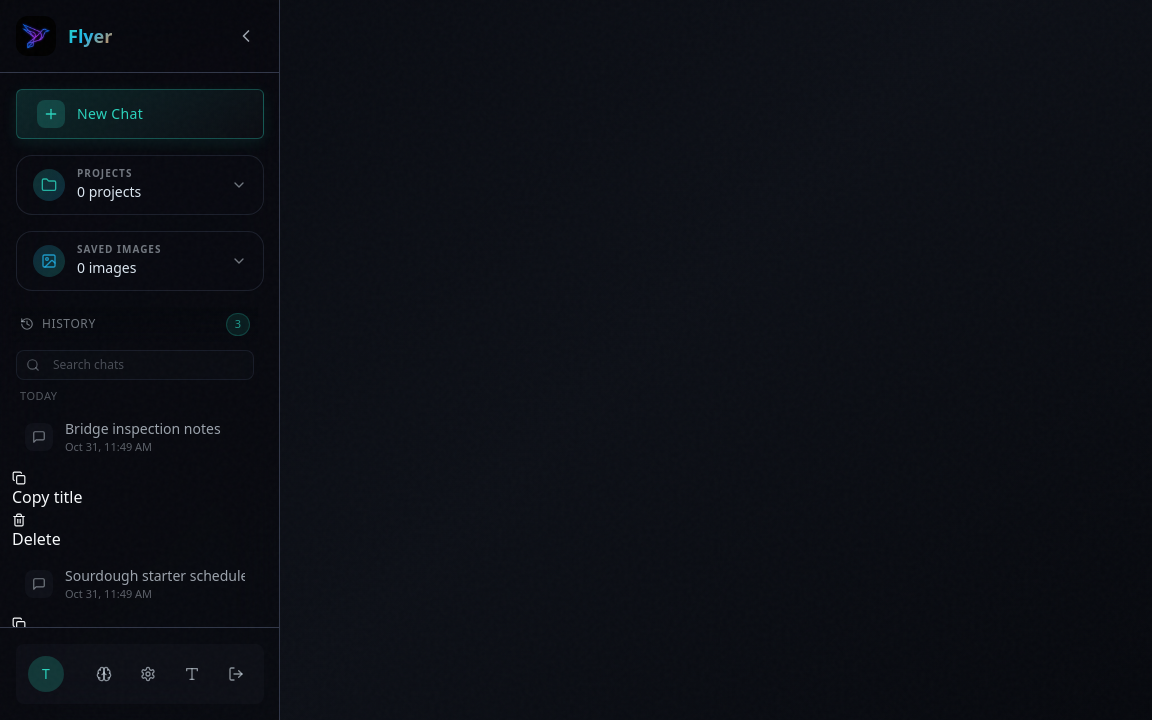
Test: history filtering › says nothing matched instead of claiming the account is empty
Type "zzzz" into the search field named "search conversations".
click(135, 364); type("zzzz")  # box [16,350,254,380]
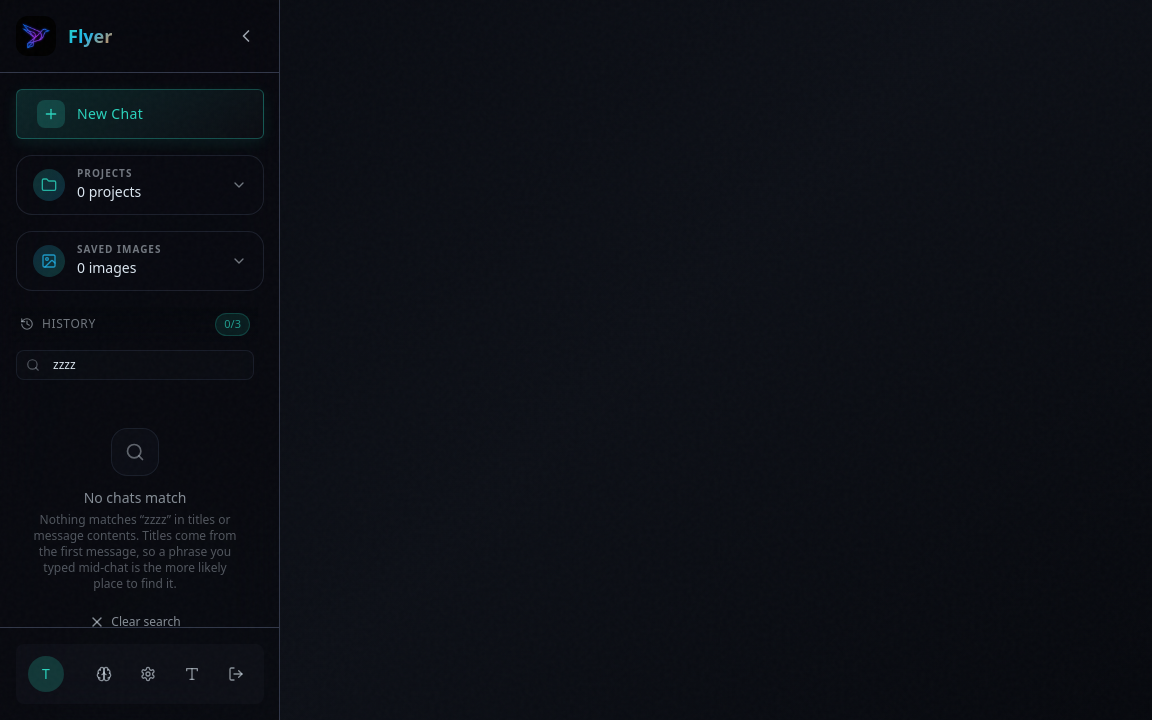
Result: the text "No chats match" is shown at [84,488,186,508]
